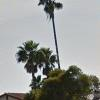Palm tree: (12, 4, 66, 73)
